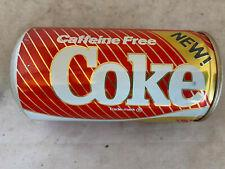metal: (11, 27, 222, 121)
